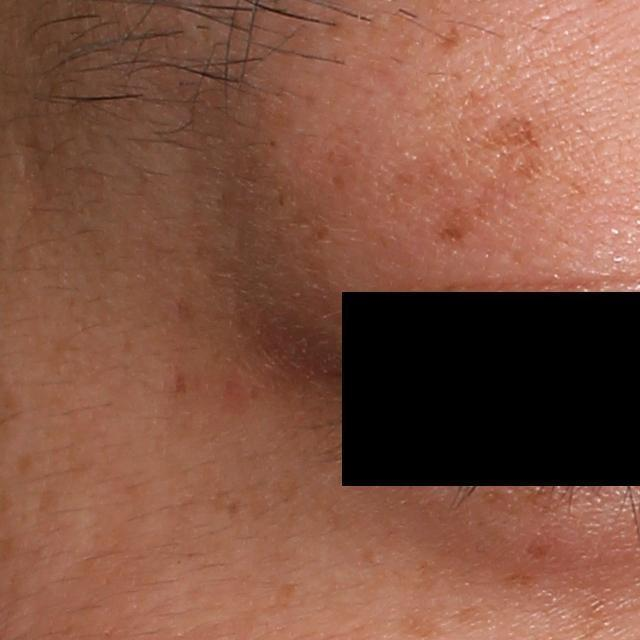melasma: (468, 115, 542, 155), (435, 200, 495, 242), (405, 602, 449, 639), (433, 22, 462, 54), (273, 579, 302, 610), (170, 295, 194, 325), (224, 496, 242, 521), (327, 172, 345, 193), (309, 223, 329, 240)
